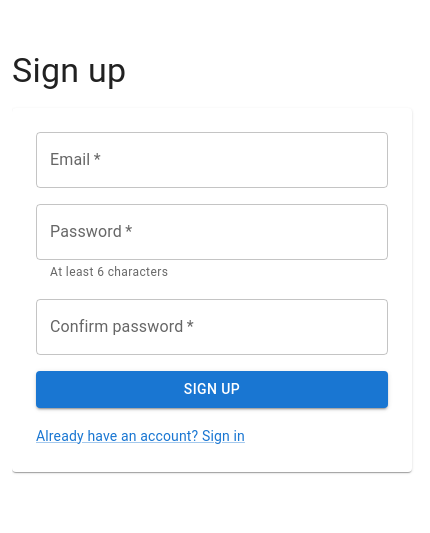
SignupPage › shows generic error when signUp fails and not network error
The image size is (430, 533).
In the field labelled "Email *": (212, 160) 36,132 -> 388,188, type "test@example.com"
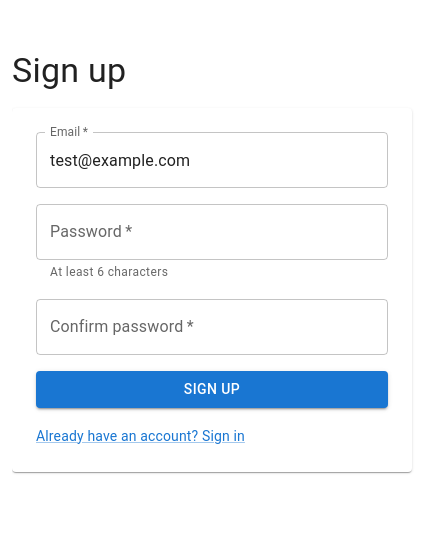
In the password field labelled "Password *": (212, 232) 36,204 -> 388,260, type "password1"
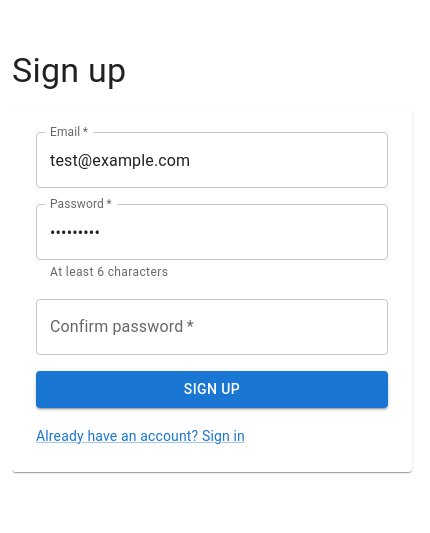
In the password field labelled "Confirm password *": (212, 327) 36,299 -> 388,355, type "password1"
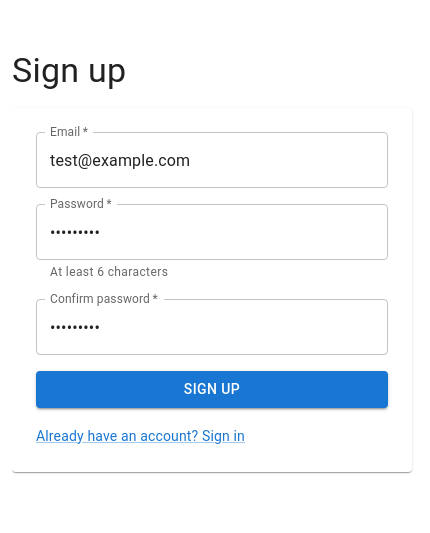
Submit the form from the button "Sign up", box 36,371 -> 388,408
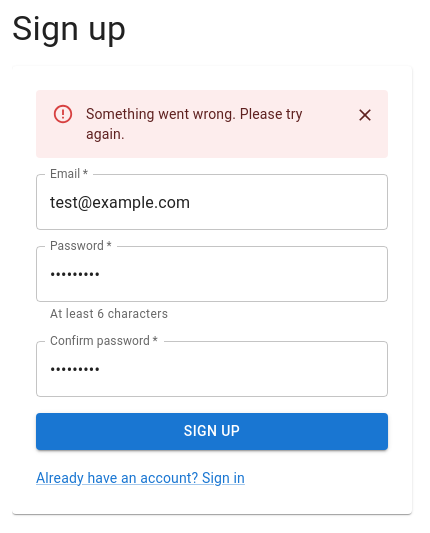
Expected: the text "Something went wrong. Please try again." is shown, 86,96 -> 334,152
